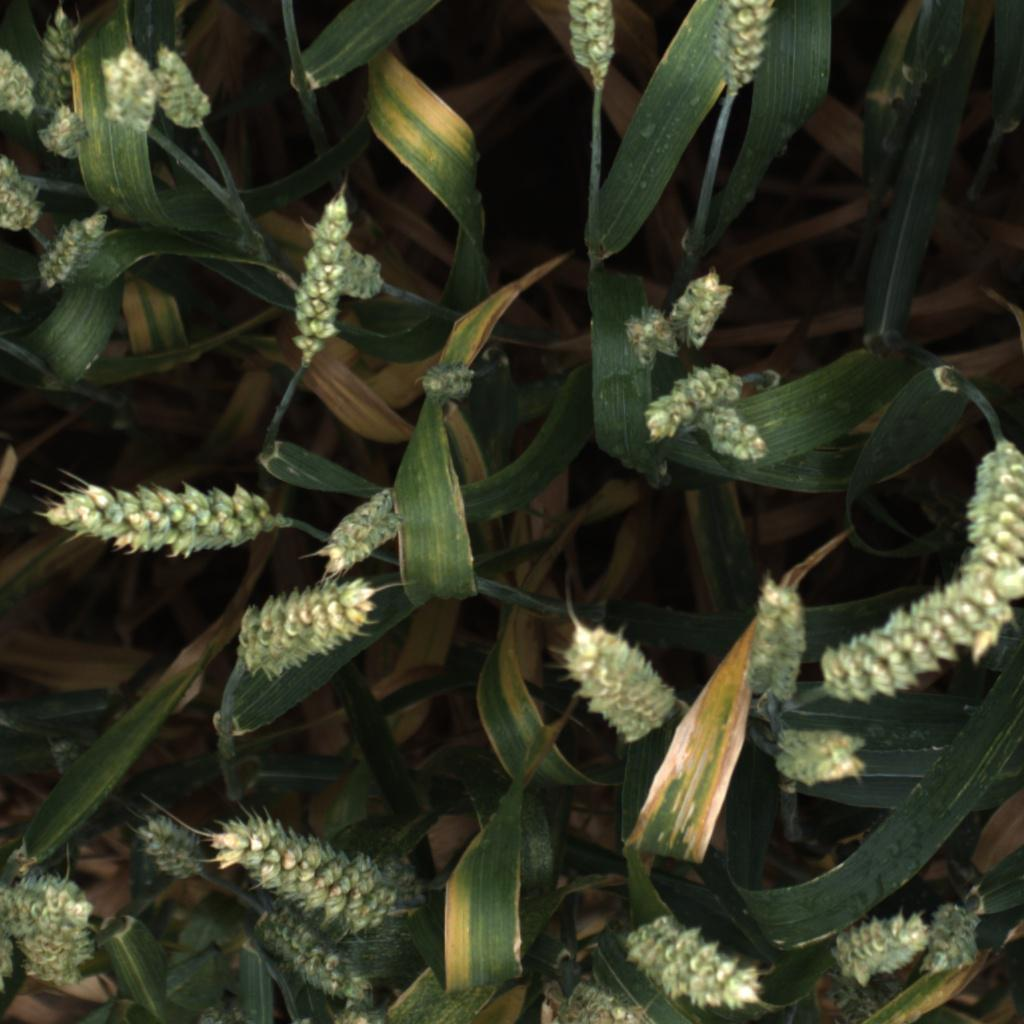0-0: (210, 804, 435, 932), (821, 573, 1016, 716), (38, 476, 271, 554), (617, 900, 764, 1015), (560, 620, 684, 750), (233, 574, 377, 678), (246, 897, 377, 1010), (287, 184, 357, 365), (945, 443, 1024, 603), (1, 871, 96, 987), (740, 565, 813, 713), (632, 358, 754, 438), (831, 902, 936, 987), (314, 485, 403, 581), (708, 0, 787, 96), (30, 0, 96, 113), (765, 723, 870, 790), (818, 971, 939, 1024), (307, 233, 393, 307), (38, 210, 116, 291), (554, 0, 633, 77), (533, 978, 662, 1024), (129, 803, 204, 881), (20, 911, 99, 985), (147, 41, 211, 132), (670, 271, 739, 354), (0, 124, 48, 238), (100, 42, 160, 133), (918, 906, 985, 987), (29, 99, 98, 168), (701, 404, 772, 471), (614, 298, 684, 365), (0, 34, 43, 120), (418, 349, 478, 405), (41, 738, 93, 779)
